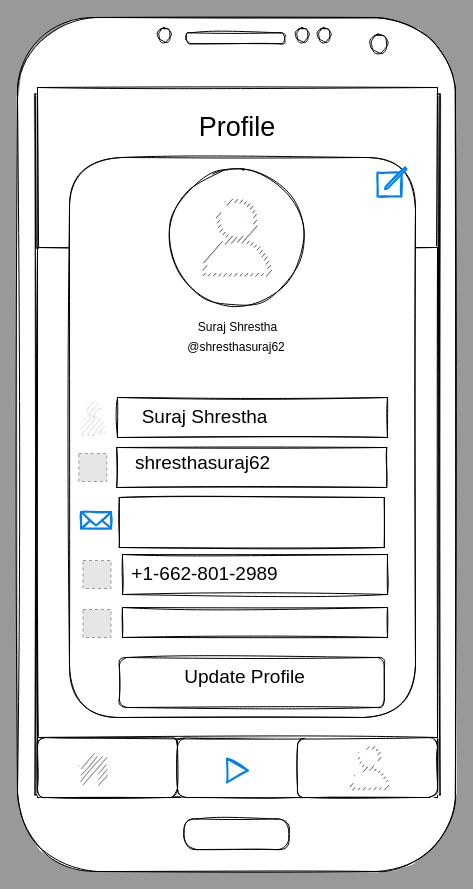
The diagram is 473 pixels wide and 889 high, and some of its shapes have lost their labels. Grey dashed boxes stand in for pictures. Each missing label, with the box of its shape:
shresthasuraj62@gmail.com: (118, 496, 384, 548)
Type your password: (122, 606, 388, 638)
